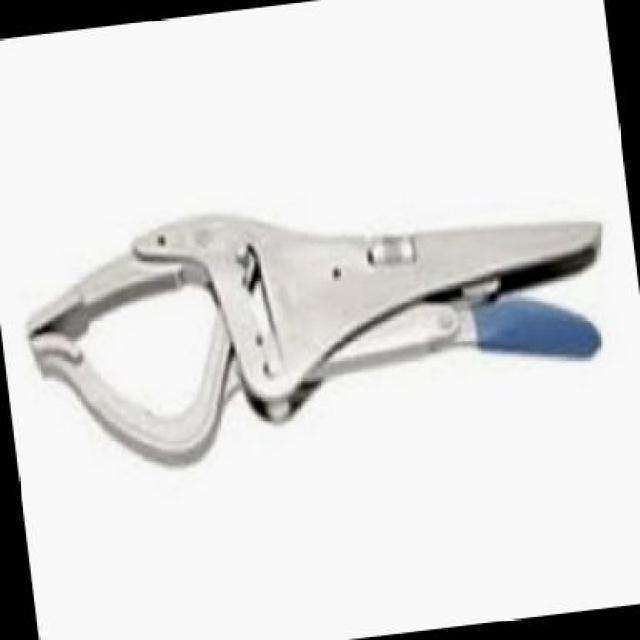pliers: (7, 137, 638, 537)
